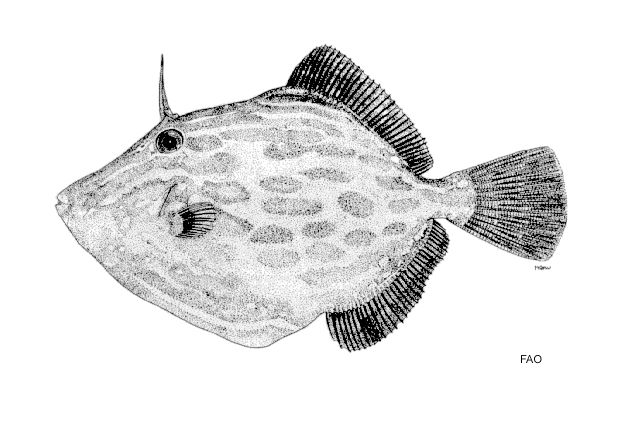fish: (54, 44, 567, 353)
